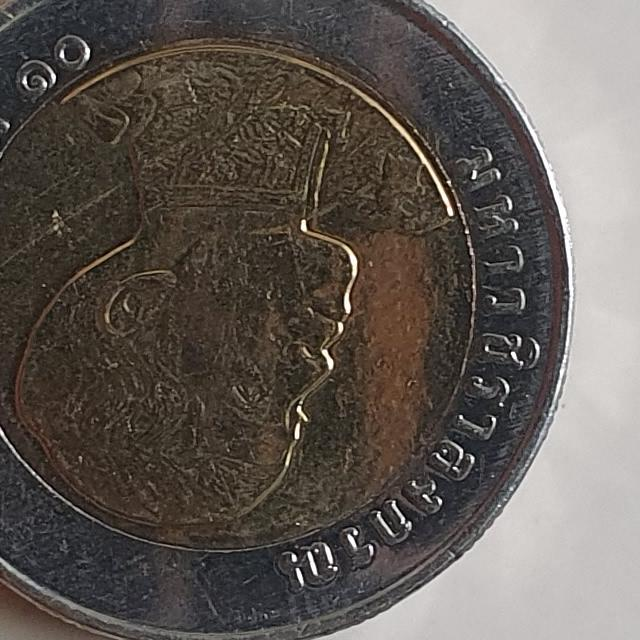10 Bath: (1, 1, 581, 640)
